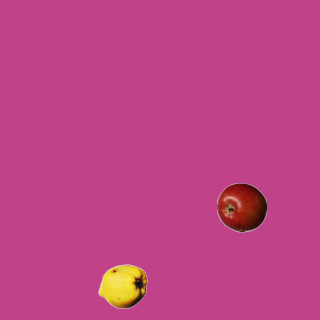Apple Braeburn: (216, 182, 266, 232)
Quince: (97, 261, 147, 311)
